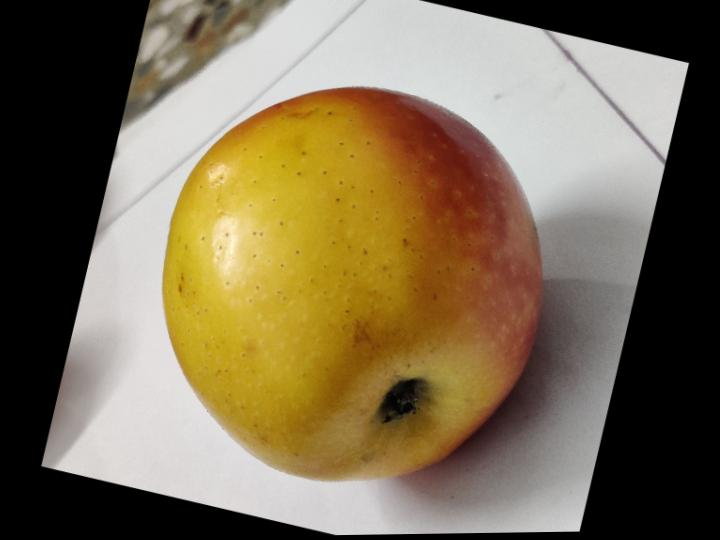apple: (161, 87, 541, 481)
surface_damage: (284, 109, 312, 119)
